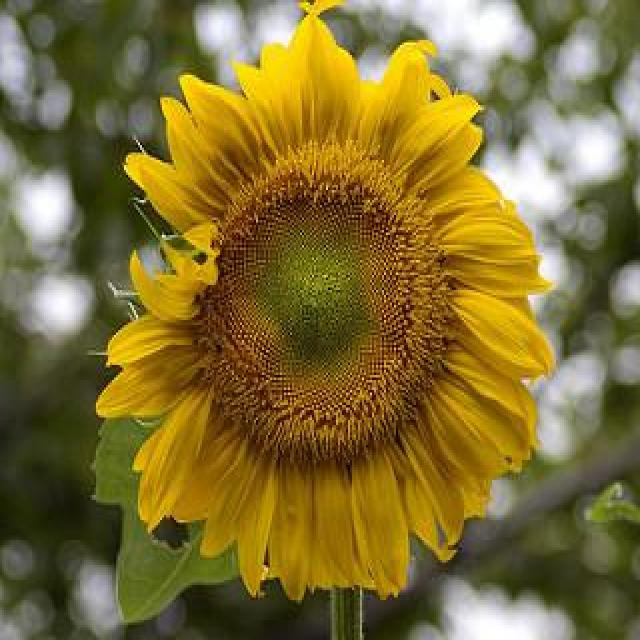sunflower: (97, 16, 555, 602)
